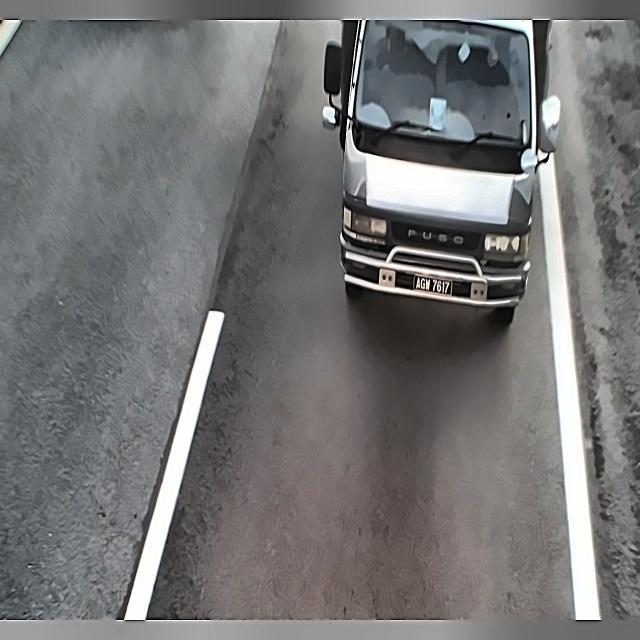car: (412, 265, 454, 306)
